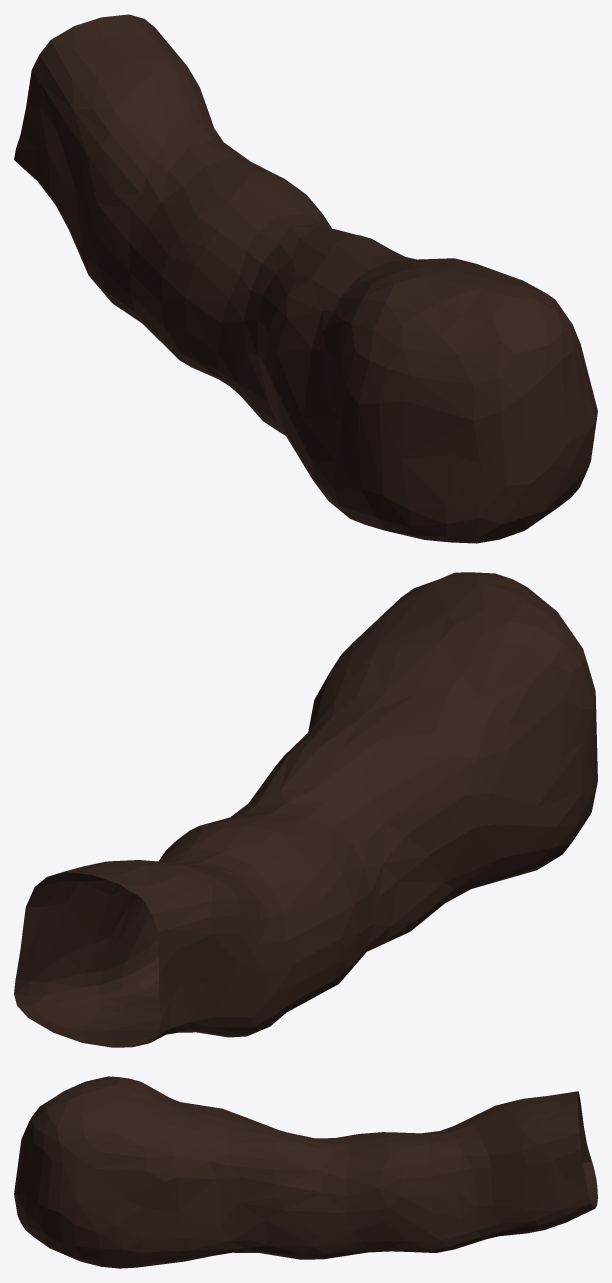
File: CaveSystem2.fbx
The picture shows the model from 3 angles, top to bottom: view 1: azimuth 30°, elevation 25°; view 2: azimuth 150°, elevation 25°; view 3: azimuth 270°, elevation 25°; orthographic projection. The views are drawn at different scales.
Visible parts, largest first — view 1: Cube; view 2: Cube; view 3: Cube.
Boxes of the visible parts, x1,y1,x2,y2 form: Cube: (14, 14, 597, 543); Cube: (14, 572, 597, 1047); Cube: (14, 1076, 597, 1268).
Bounding box in the file's own units: 1402 × 1385 × 4663.
